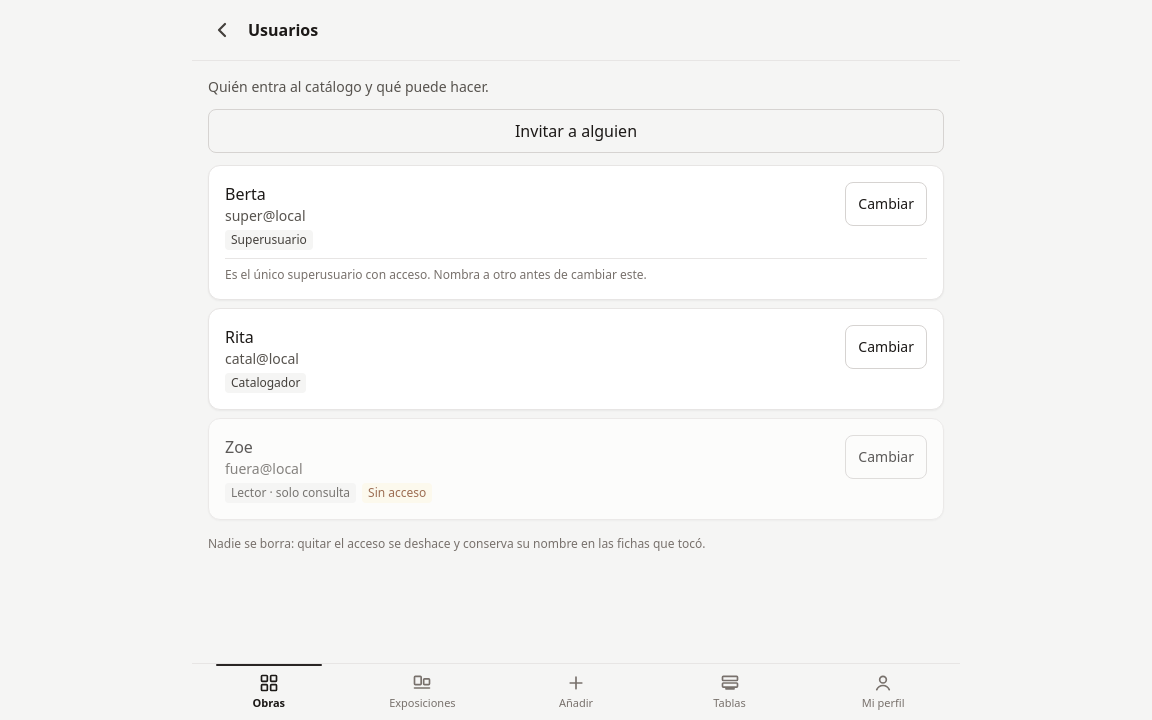
Test: quitar el acceso › al último superusuario no se le ofrece, y se dice por qué
Expected: the text "Berta" is shown, [225, 183, 266, 205]
Expected: the text "único superusuario con acceso" is shown, [225, 266, 647, 283]
Click the button "Cambiar" in the row of "super@local".
click(886, 204)  # box [845, 182, 927, 226]
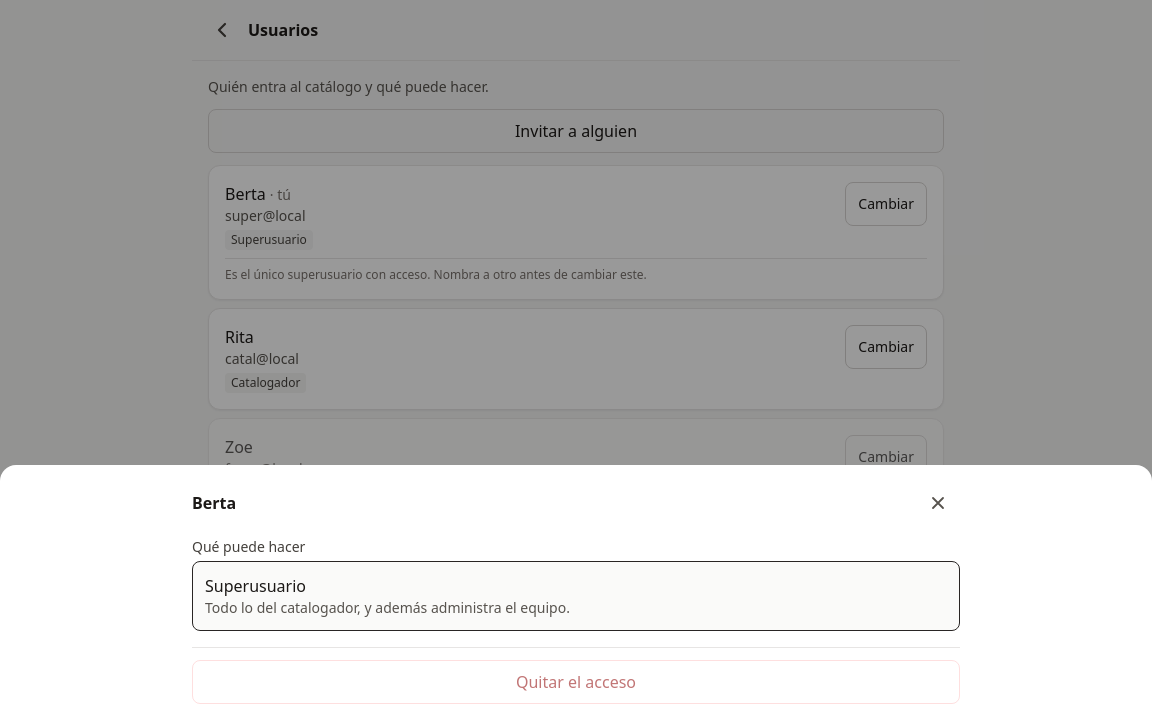
Now the button "Quitar el acceso" is disabled, box [192, 660, 960, 704]
